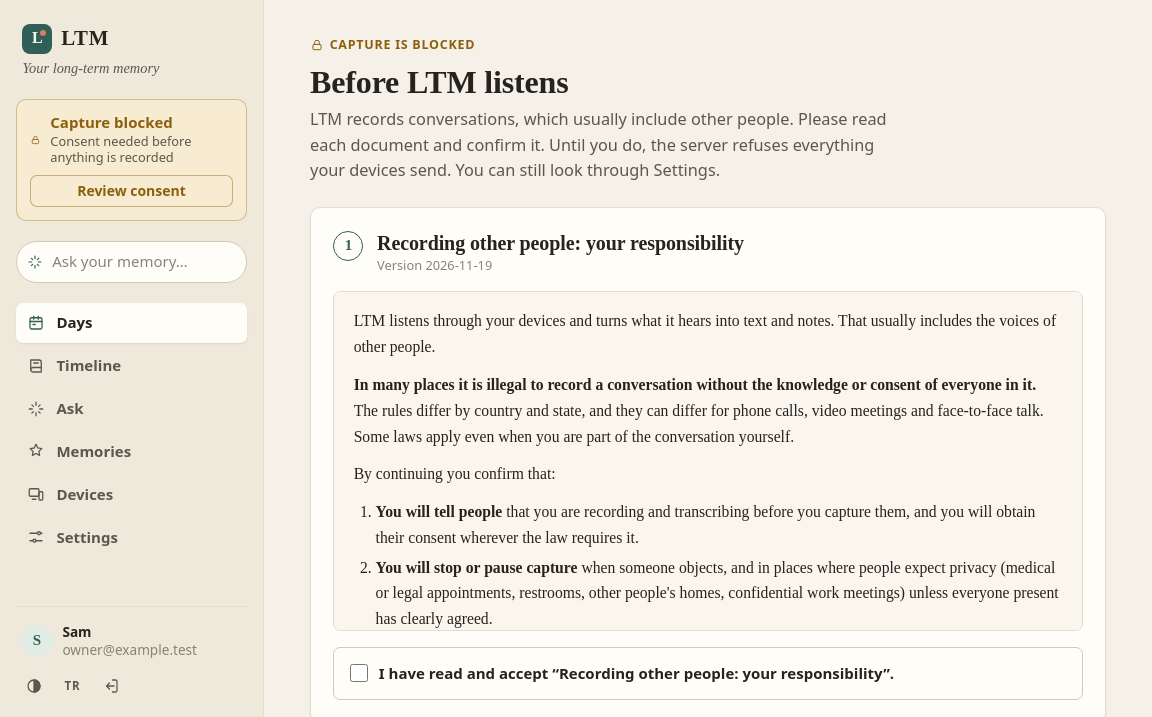
Test case: consent gate › blocks the timeline until every required document is explicitly accepted
The width and height of the screenshot is (1152, 717).
Expected: the heading "Before LTM listens" is shown, 310,64 -> 569,100
Expected: the text "Capture blocked" is shown, 50,112 -> 173,132
Click the checkbox at point(360, 673), box 350,664 -> 368,682
(page scrolled)
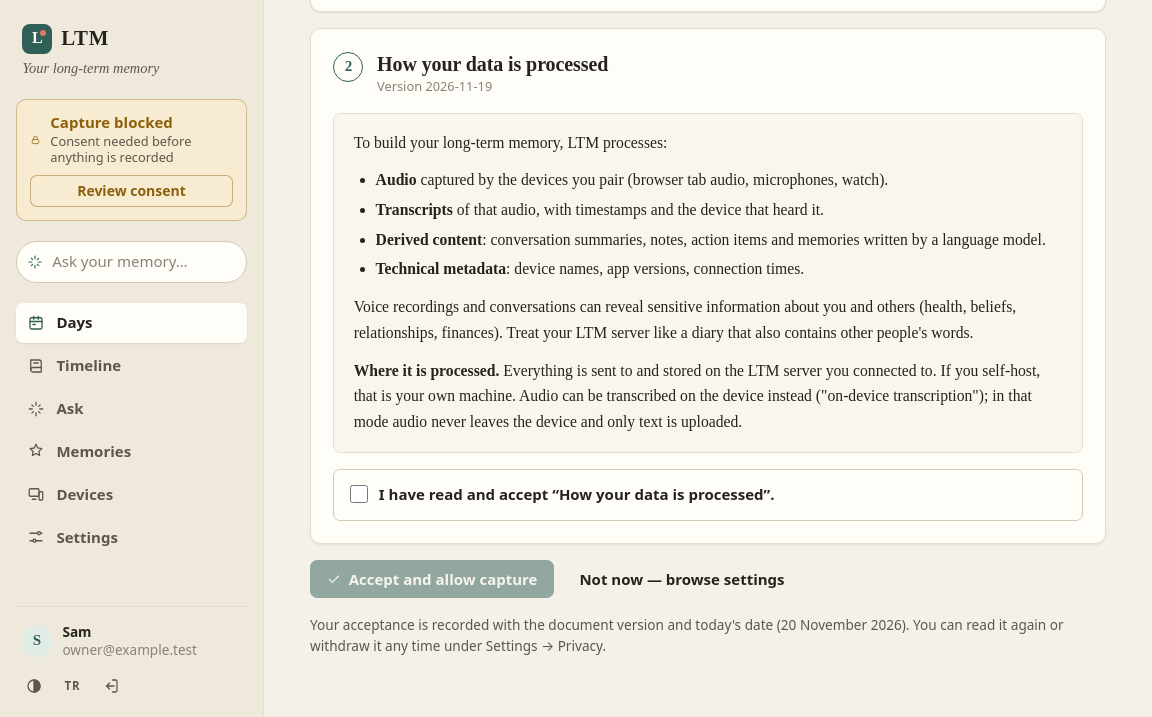
Expected: the button "Accept and allow capture" is disabled, 310,560 -> 554,598
Click the checkbox at point(360, 494), box 350,486 -> 368,504
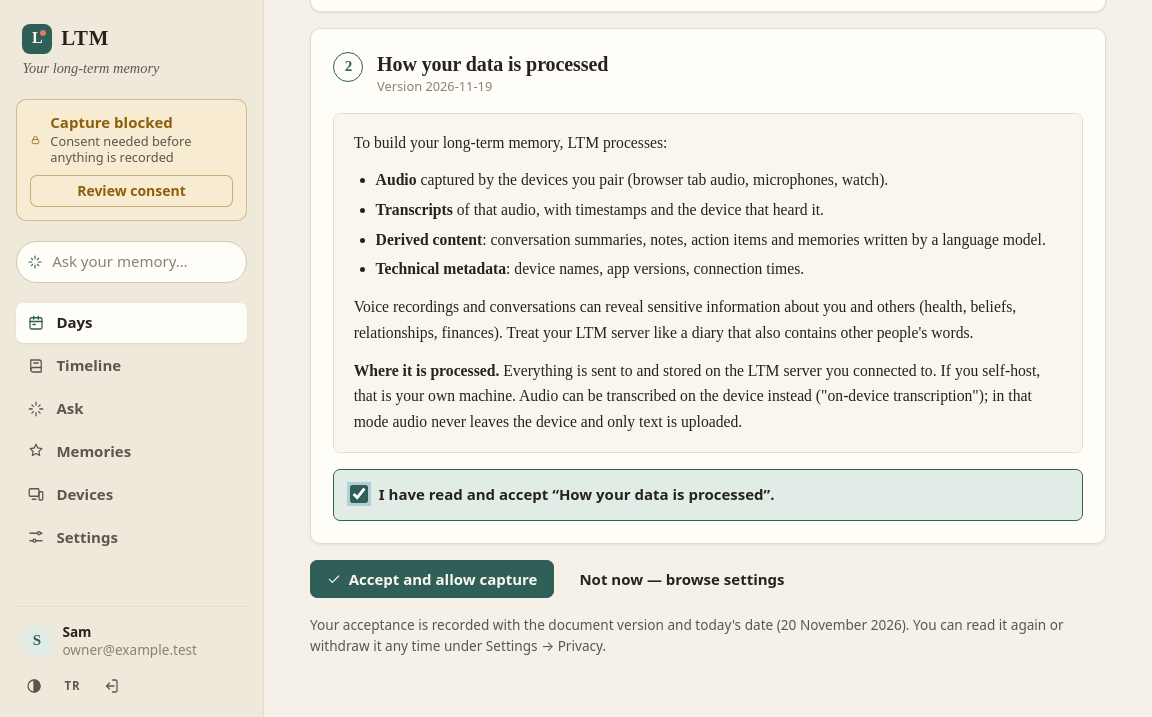
Now the button "Accept and allow capture" is enabled
Click the button "Accept and allow capture" at point(432, 579), box 310,560 -> 554,598
(page scrolled)
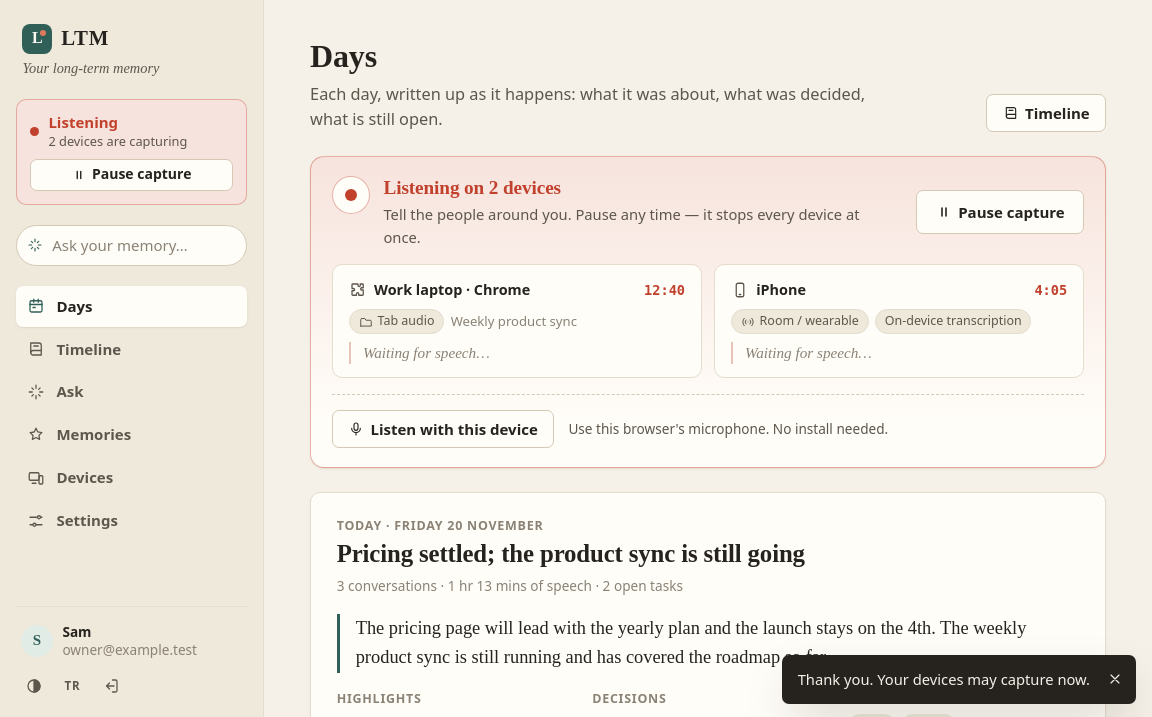
Now the heading "Days" is shown, box 310,38 -> 377,74
